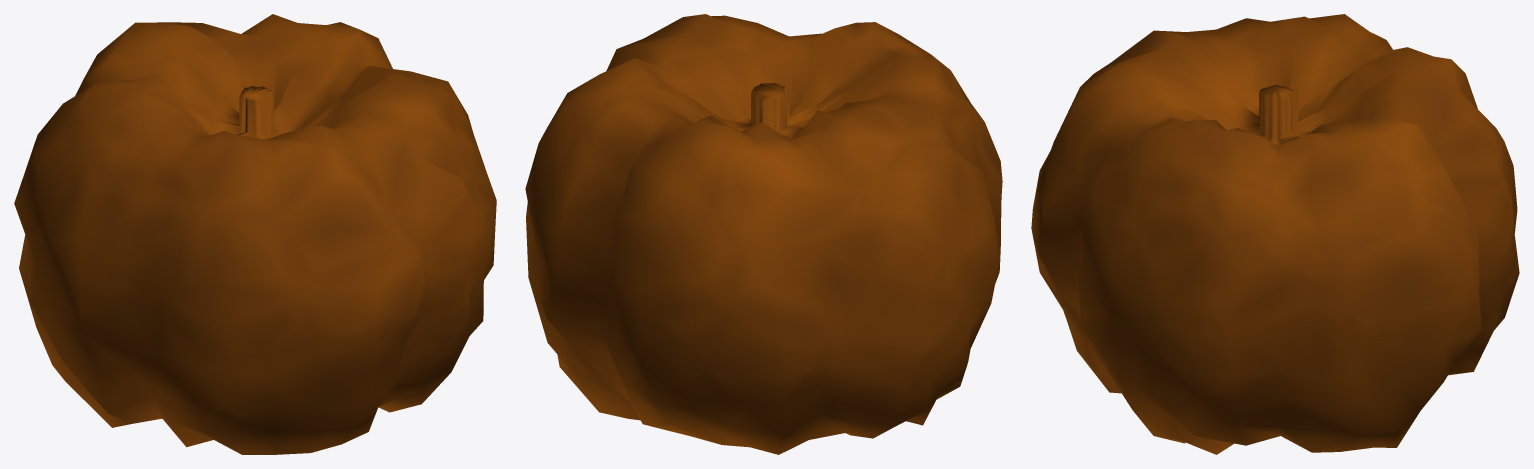
File: かぼちゃ.fbx
3 renders of one model, left to right at view 1: azimuth 30°, elevation 25°; view 2: azimuth 150°, elevation 25°; view 3: azimuth 270°, elevation 25°, orthographic.
Visible parts, largest first — view 1: 球; view 2: 球; view 3: 球.
Part boxes in pixels (box(x1,y1,x2,y2)): 球: box(14, 14, 496, 454); 球: box(525, 14, 1002, 454); 球: box(1031, 14, 1519, 454).
Size of the model in its own units: 196 by 152 by 202.
